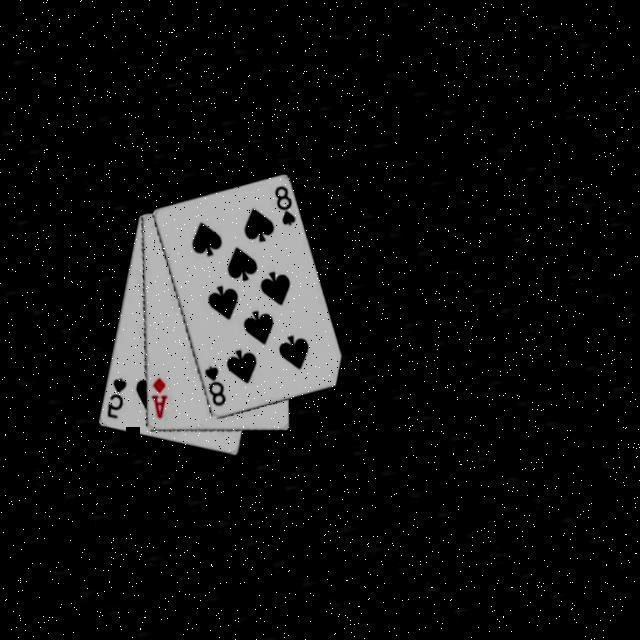5S: (97, 375, 136, 424)
8S: (200, 362, 230, 412), (270, 184, 300, 232)
AD: (144, 376, 174, 424)
